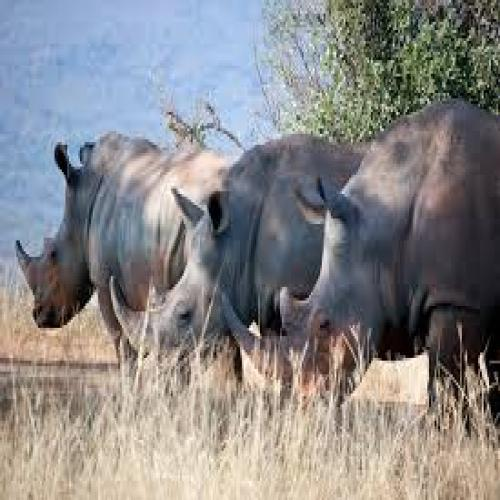rhino-endangered: (225, 100, 500, 432), (108, 134, 367, 372), (20, 135, 243, 384)
